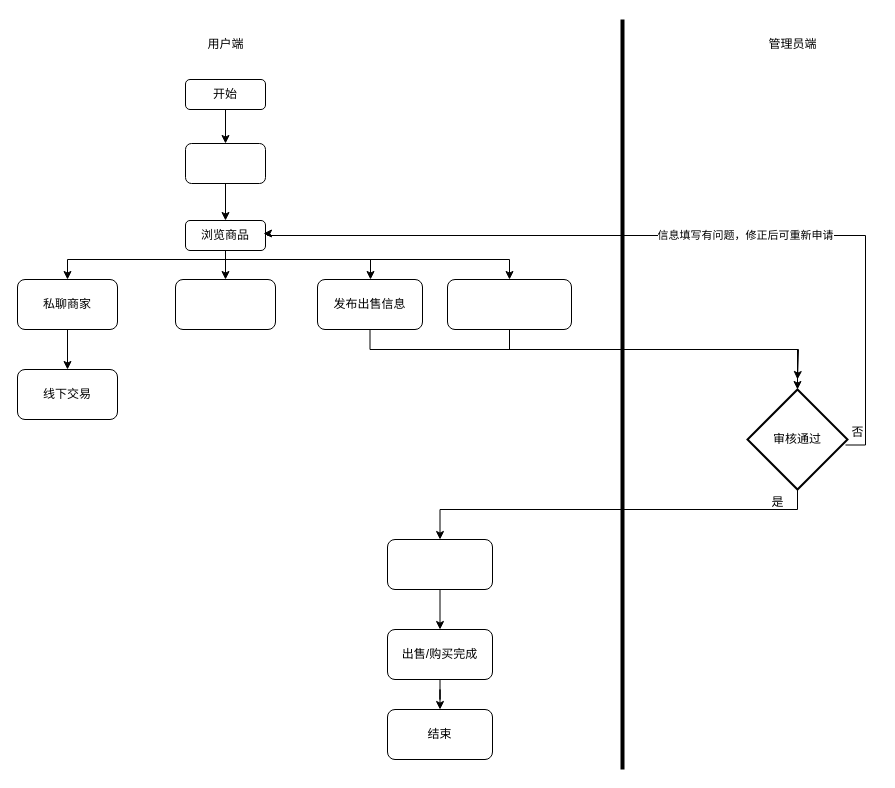
Some shapes in this 895 by 788 pixel diagram are drawn without their labels. The shapes that lost their labels are listed below. From the top down, each one's centre as x and y in pixels, then its label:
the point at 225,163: 注册/登录
the point at 225,304: 收藏
the point at 509,304: 发布求购信息
the point at 439,564: 待出售/购买
